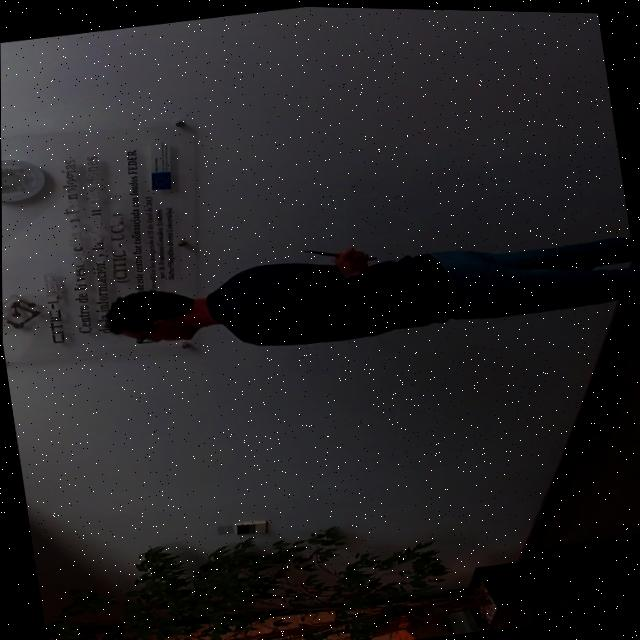knife: (298, 237, 344, 262)
